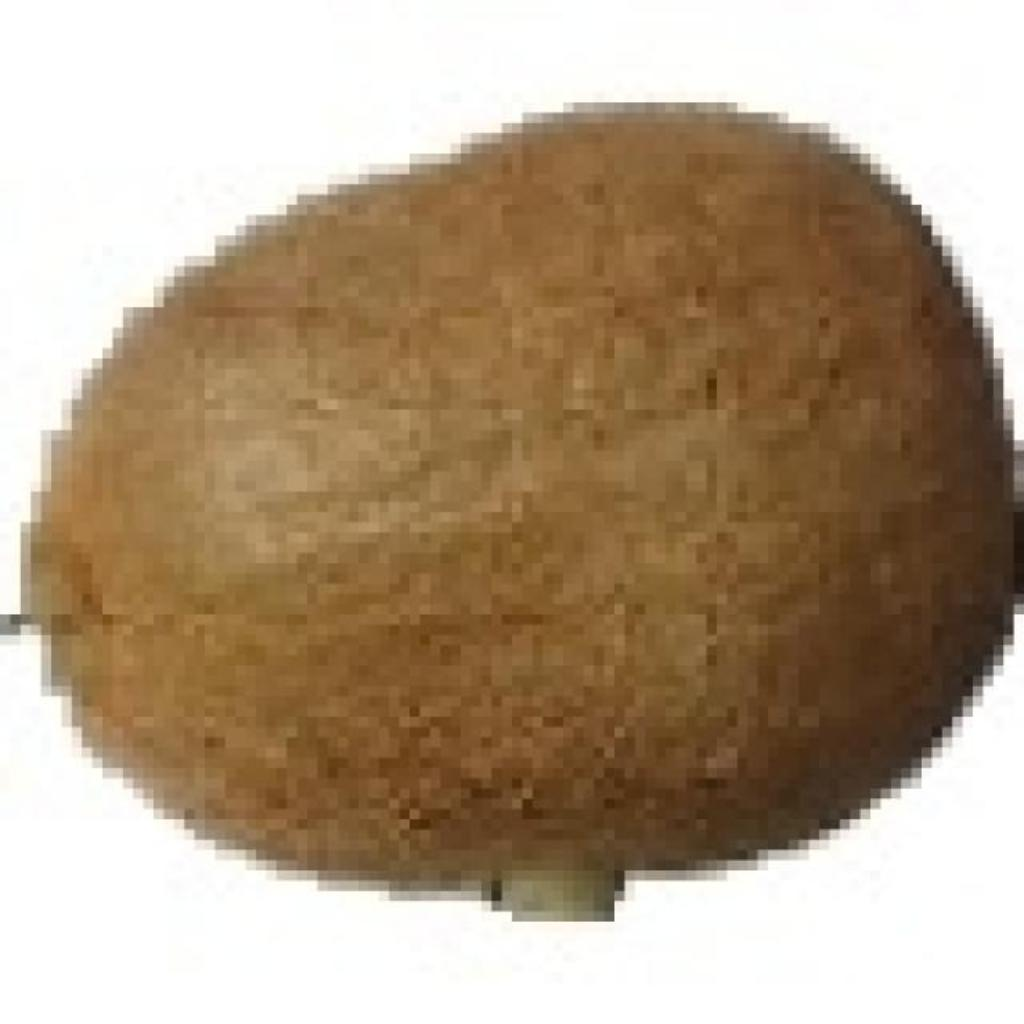kiwi: (20, 92, 993, 891)
